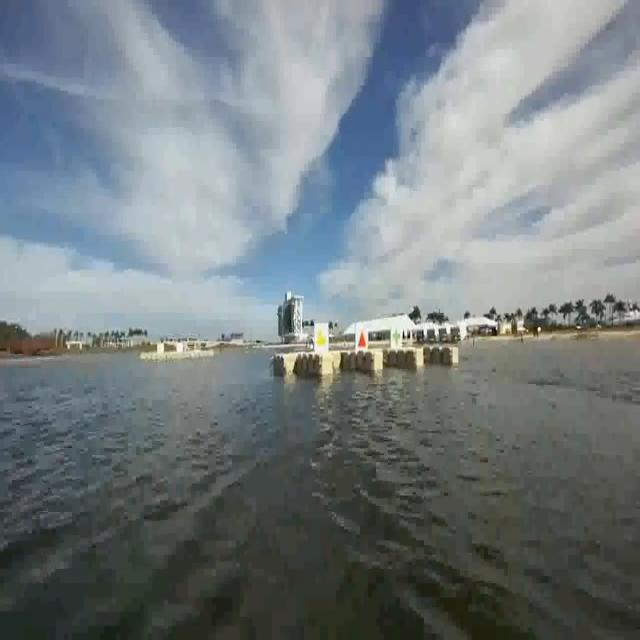blue-cross: (392, 322, 403, 348)
red-dot: (356, 323, 371, 353)
yellow-duck: (312, 316, 330, 357)
